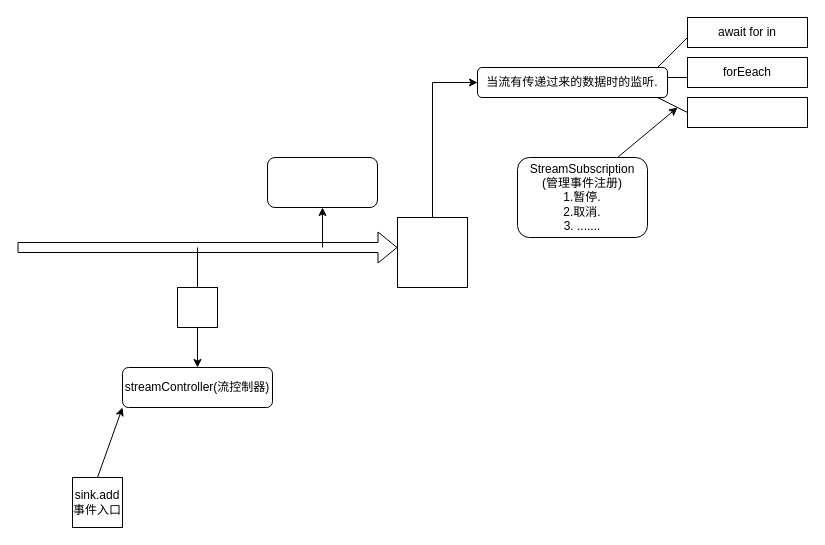
Image size: 825x545. Some labels were removed from this diagram. The centre of each missing label's shape, as x and y in pixels:
listen: point 747,112
stream(流): point 322,182
完成 (无法确定什么时候完成,只可以进行监听): point 432,252
